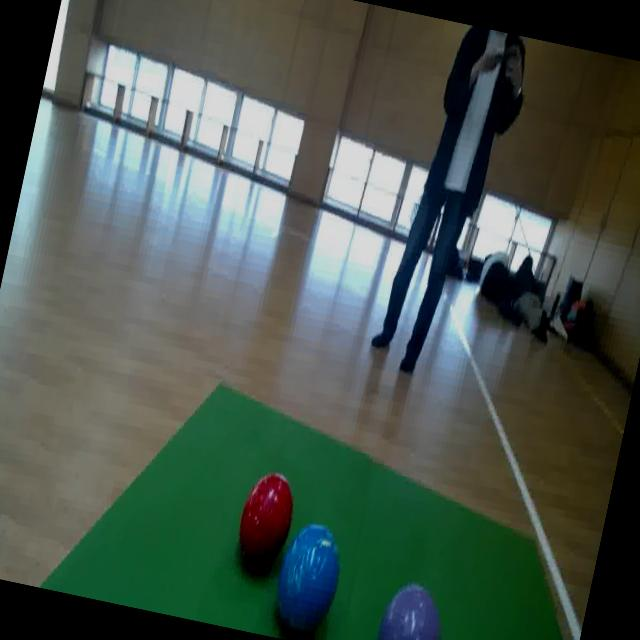blue_ball: (266, 520, 350, 640)
purple_ball: (375, 581, 452, 640)
red_ball: (234, 468, 300, 570)
